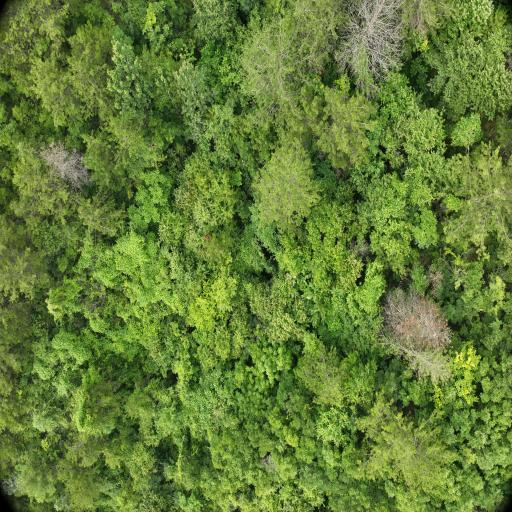dead-tree: (388, 283, 450, 353), (346, 2, 400, 65), (46, 141, 83, 181)
